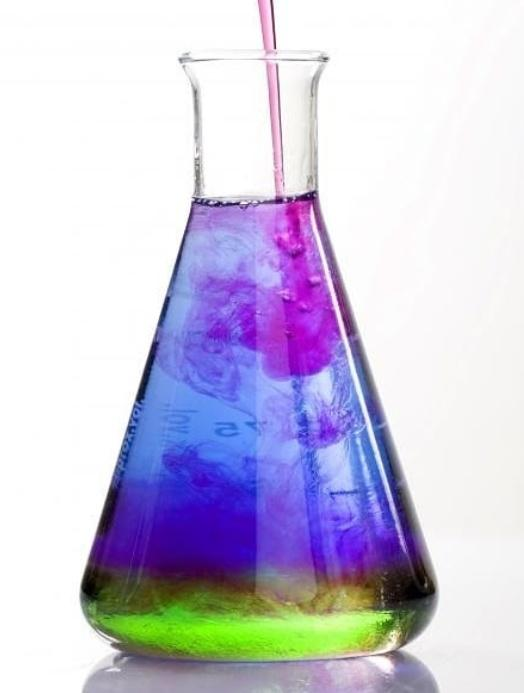Titrarion: (83, 25, 441, 660)
